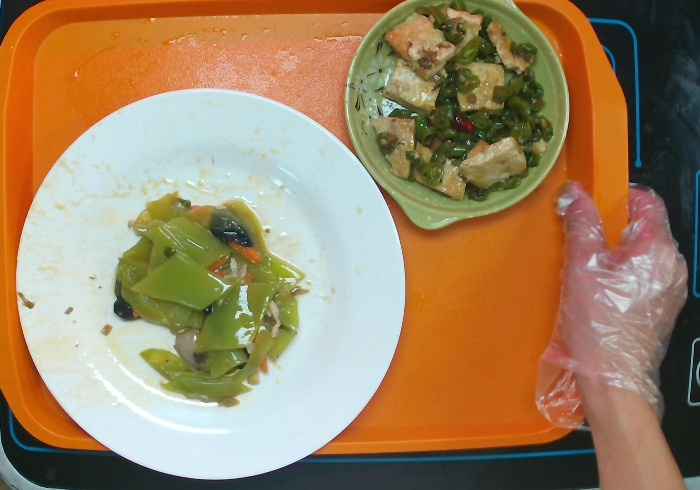NLDX-Da_Yuan_Pan: (3, 85, 418, 488)
NLDX-Lv_Hua_Shuang_Er_Die: (339, 1, 573, 236)
